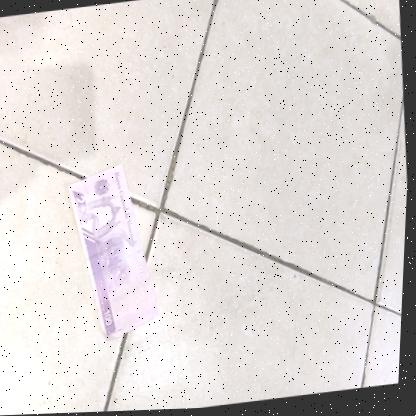one_hundred-back-vef: (61, 160, 170, 349)
